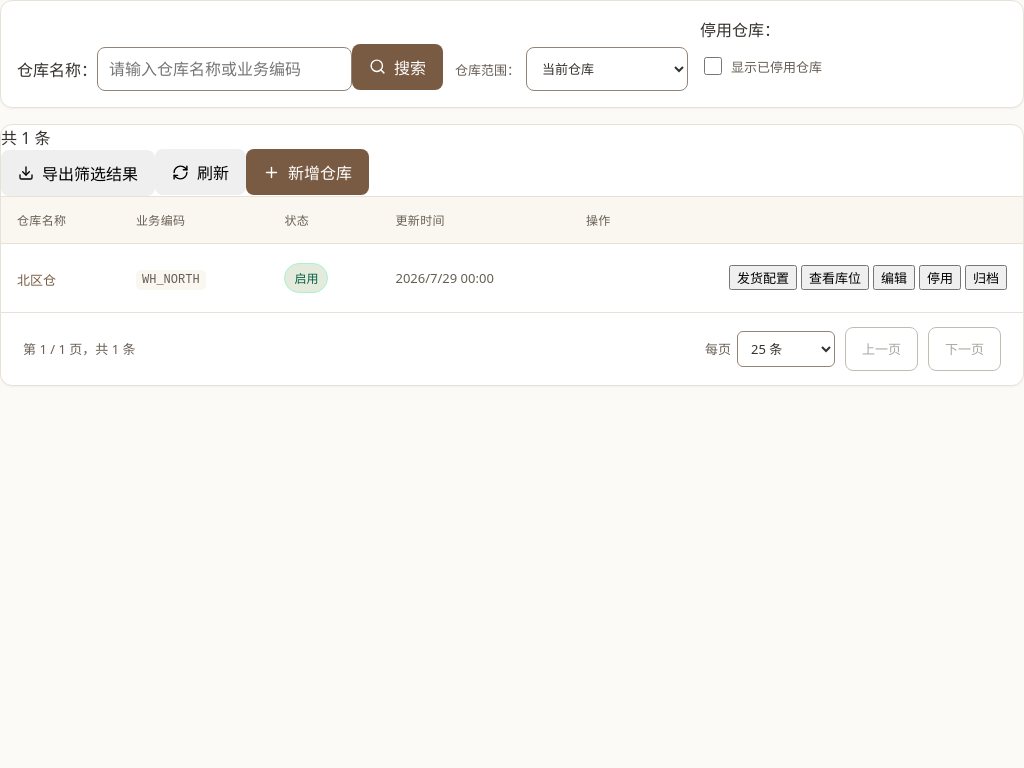
Test: WarehouseCenterPage › opens warehouse-scoped shipping configuration without adding a menu
Click the button "发货配置".
click(763, 278)  # box [729,265,797,290]
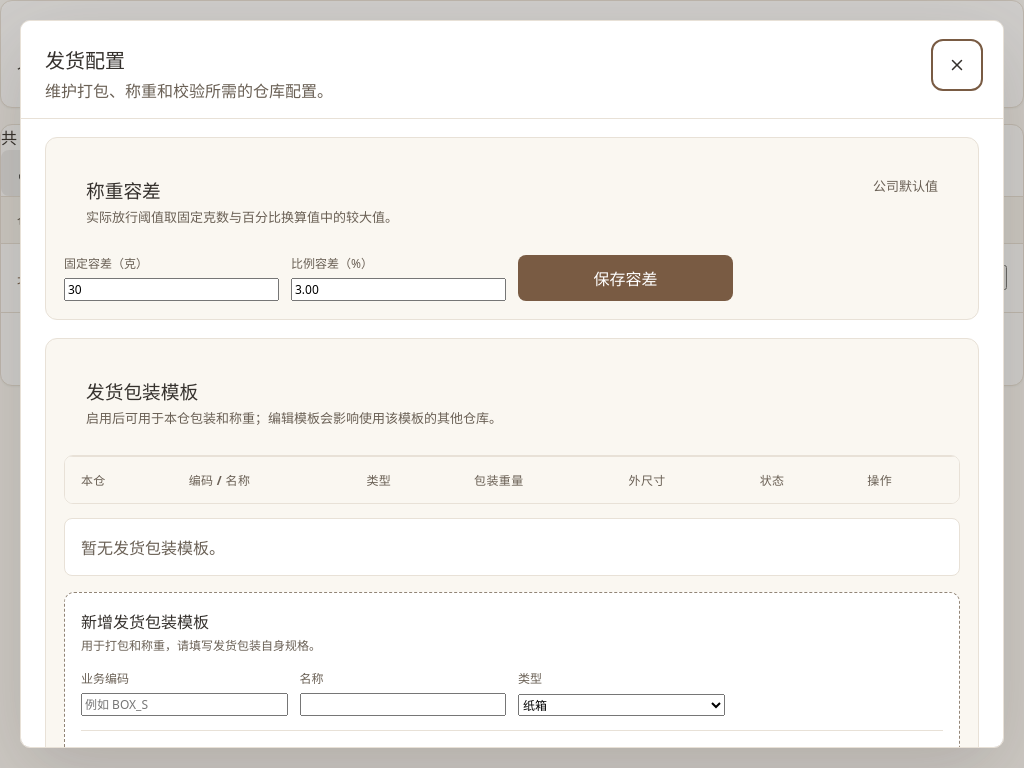
Check: the dialog "发货配置" is shown
